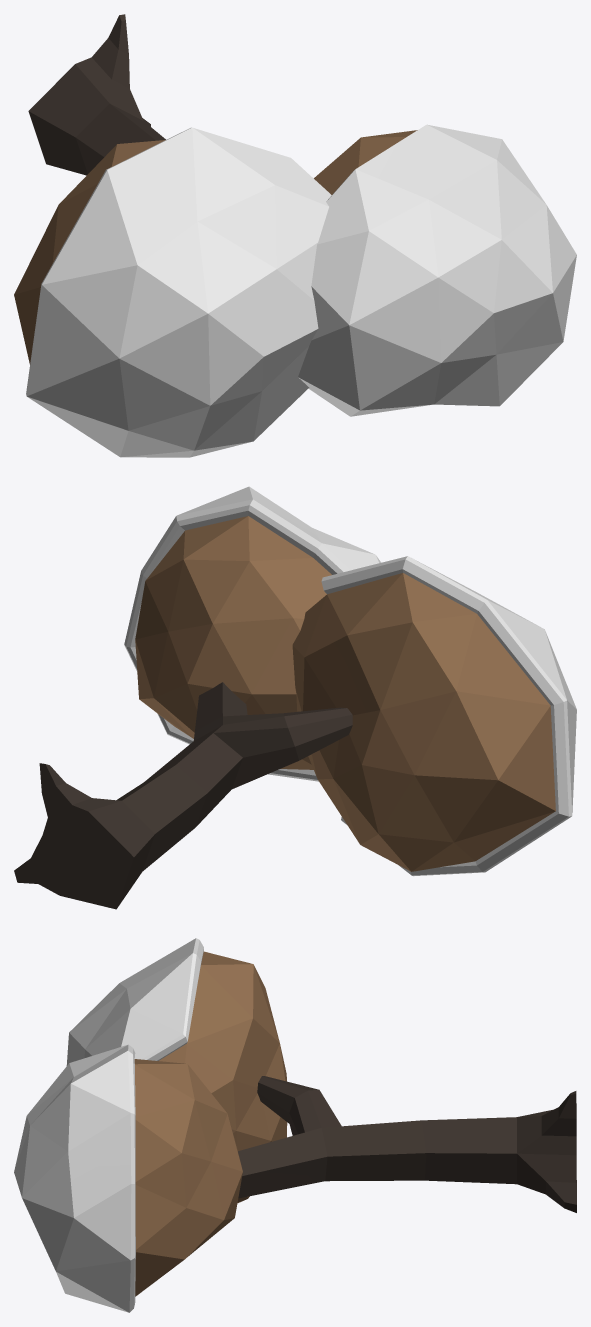
Rendered from laubbaum1.fbx.
3 renders of one model, top to bottom at view 1: azimuth 30°, elevation 25°; view 2: azimuth 150°, elevation 25°; view 3: azimuth 270°, elevation 25°, orthographic. The views are drawn at different scales.
Parts seen in each view (by area): view 1: Laub-1; view 2: Laub-1; view 3: Laub-1.
Part boxes in pixels (<box>): Laub-1: <box>14,14,576,457</box>; Laub-1: <box>14,486,576,909</box>; Laub-1: <box>14,938,576,1312</box>.
Bounding box in the file's own units: 867 × 550 × 992.
